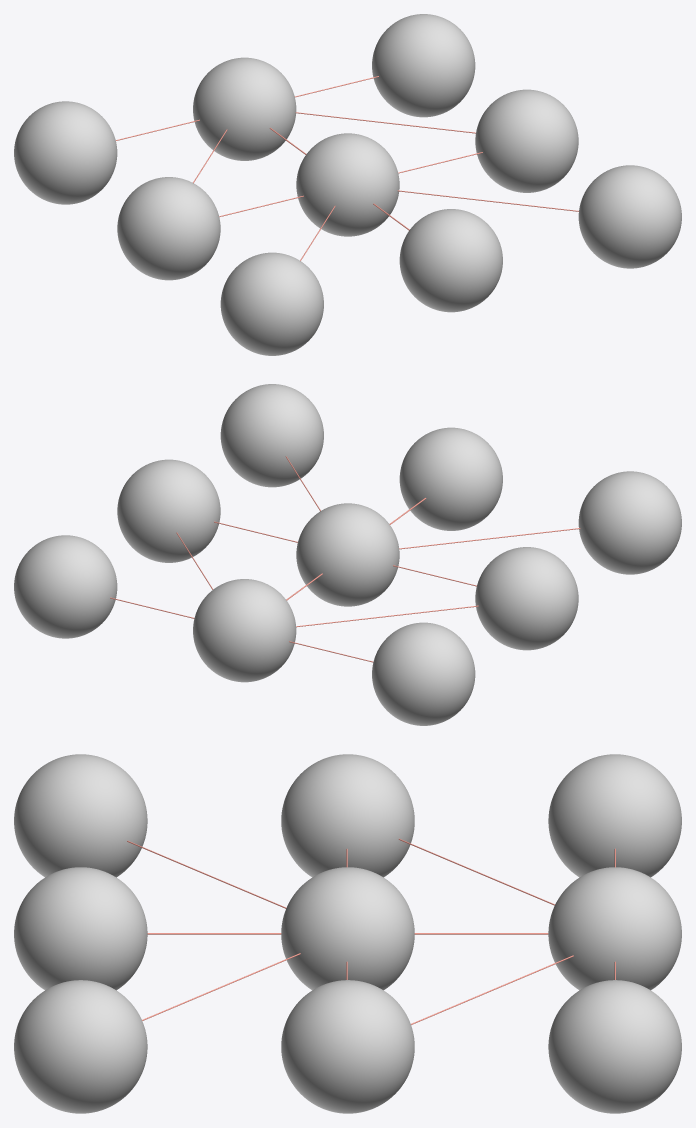
3 views of the same model, one above another, from view 1: azimuth 30°, elevation 25°; view 2: azimuth 150°, elevation 25°; view 3: azimuth 270°, elevation 25° (orthographic). The views are drawn at different scales.
Visible parts, largest first — view 1: Cloner.2, Cylinder.7; view 2: Cloner.2, Cylinder.7; view 3: Cloner.2, Cylinder.7.
Part boxes in pixels (bbox=[...]): Cloner.2: bbox=[14, 14, 681, 355]; Cylinder.7: bbox=[116, 76, 578, 260]; Cloner.2: bbox=[14, 384, 681, 725]; Cylinder.7: bbox=[110, 456, 580, 662]; Cloner.2: bbox=[14, 754, 681, 1113]; Cylinder.7: bbox=[127, 838, 615, 1024].
Bounding box in the file's own units: 500 × 100 × 500.
